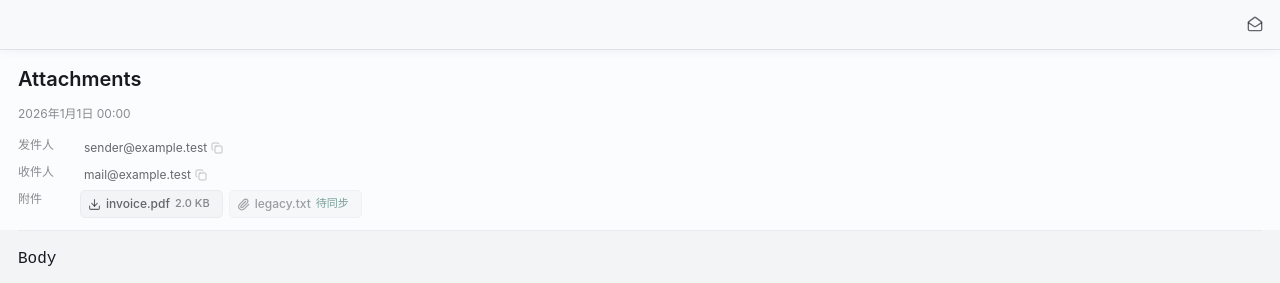
Test: mail body isolation › downloads, cancels and retries attachments while keeping legacy entries visible
Expected: the button with aria-label "legacy.txt，同步后可下载" is disabled, [229, 190, 362, 218]
Expected: the text "2.0 KB" is shown, [175, 196, 210, 212]
Click the button with aria-label "下载 invoice.pdf": (151, 204) [80, 190, 223, 218]
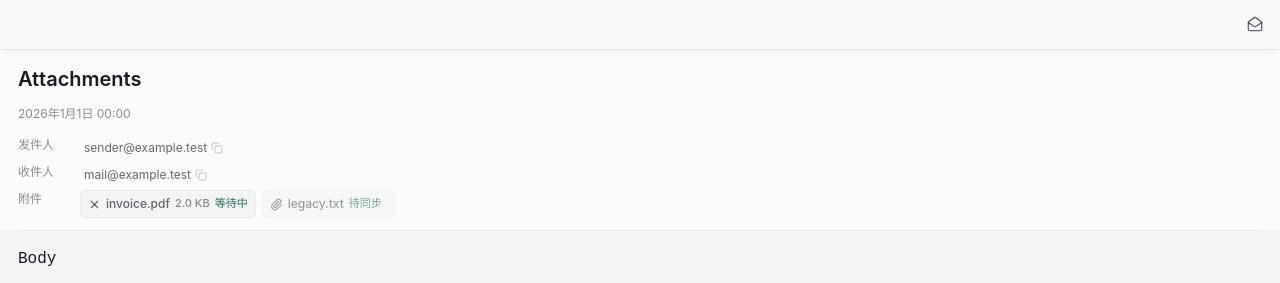
Expected: the text "等待中" is shown, [215, 196, 248, 212]
Click the button with aria-label "取消下载 invoice.pdf": (168, 204) [80, 190, 256, 218]
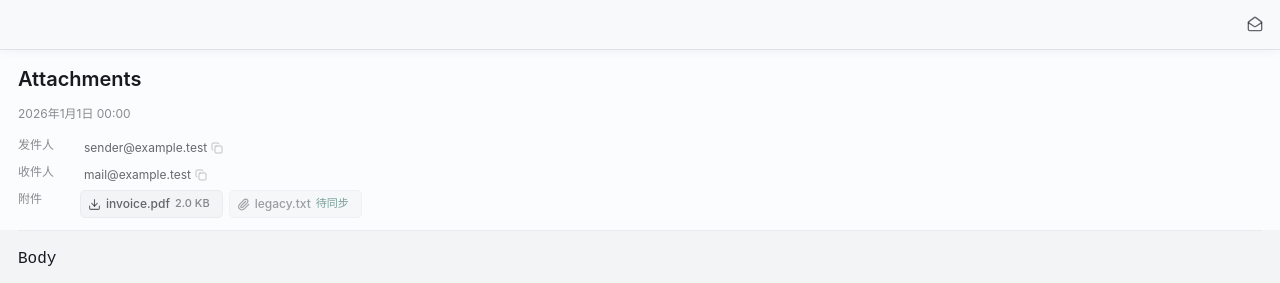
Expected: the button "等待中" is gone
Click the button with aria-label "下载 invoice.pdf": (151, 204) [80, 190, 223, 218]
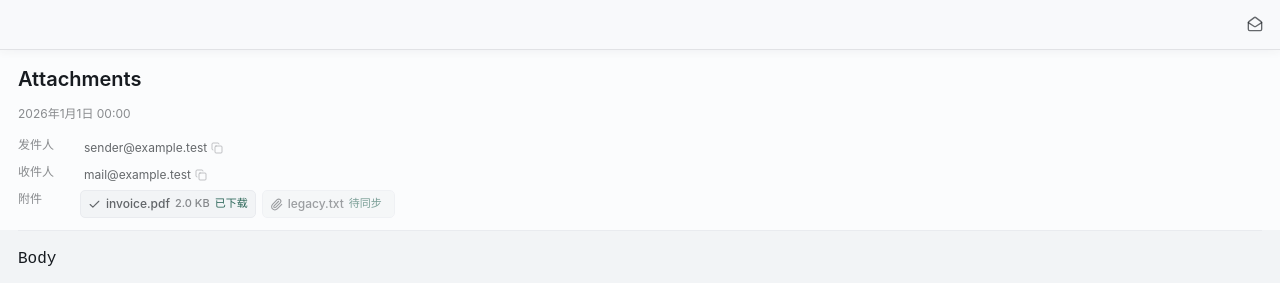
Expected: the text "已下载" is shown, [215, 196, 248, 212]
Click the button "下载 invoice.pdf": (168, 204) [80, 190, 256, 218]
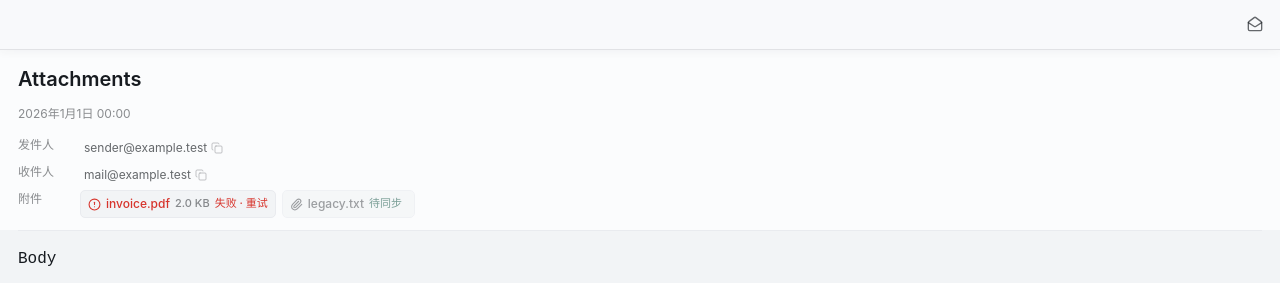
Expected: the button with aria-label "重试下载 invoice.pdf" is enabled, [80, 190, 276, 218]
Expected: the text "失败 · 重试" is shown, [215, 196, 268, 212]
